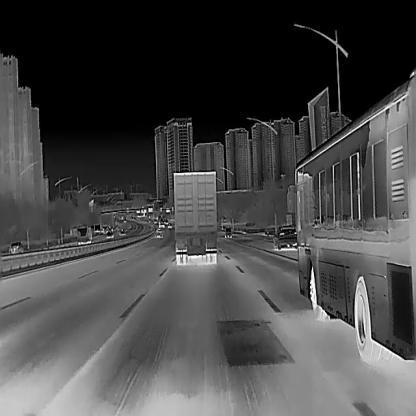car: (286, 70, 415, 362), (174, 170, 217, 263), (272, 223, 297, 249), (74, 226, 92, 244), (7, 240, 24, 253), (224, 226, 232, 237), (155, 228, 163, 238), (105, 229, 114, 237), (118, 227, 125, 234), (167, 222, 172, 228)
